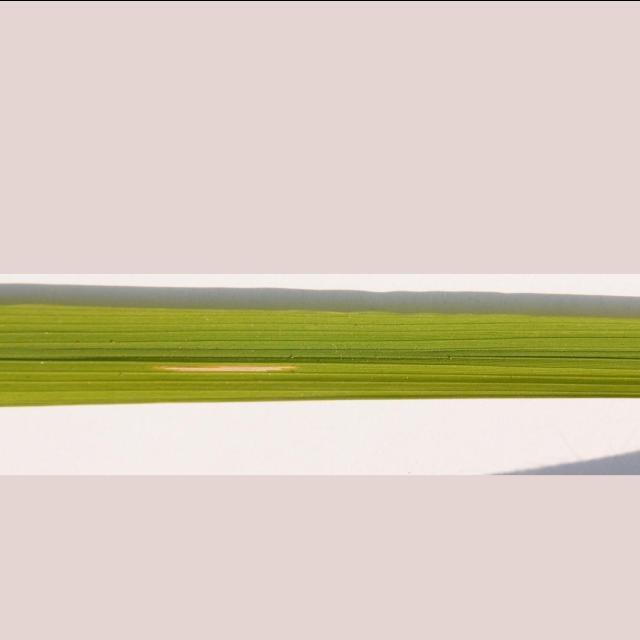Bacterial leaf blight: (149, 356, 298, 378)
